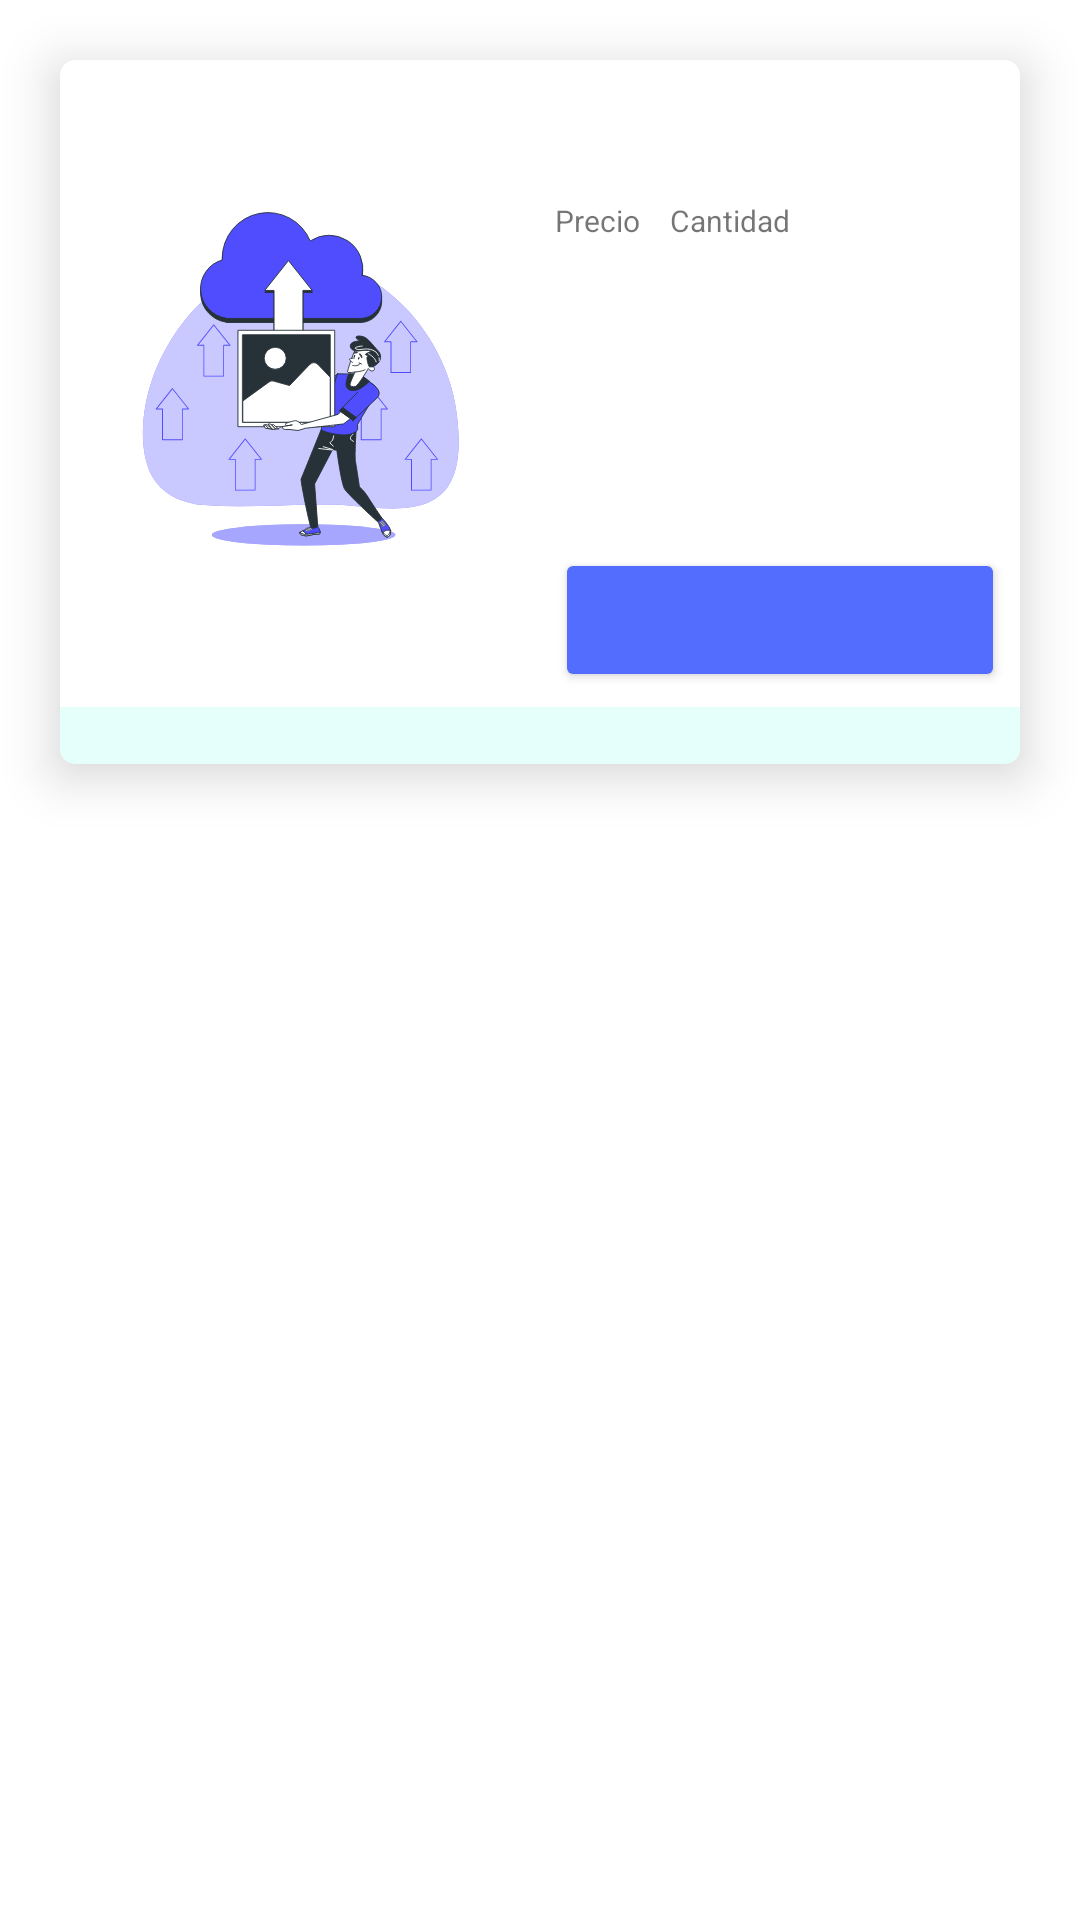

Icon click points for this 1080 × 1920 phone screenshot, format (x=x, y=y):
upload bro: (x=301, y=379)
